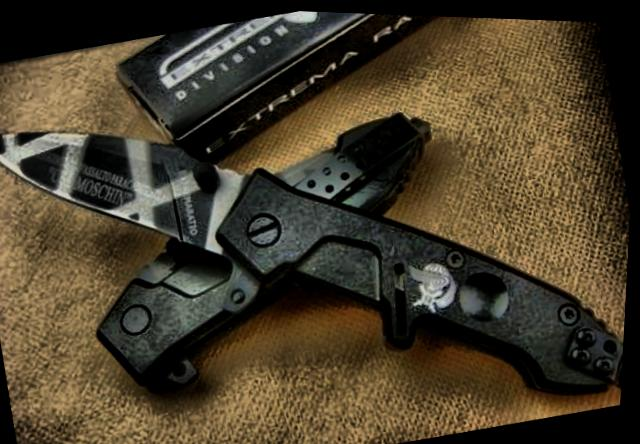knife: (0, 70, 274, 300)
